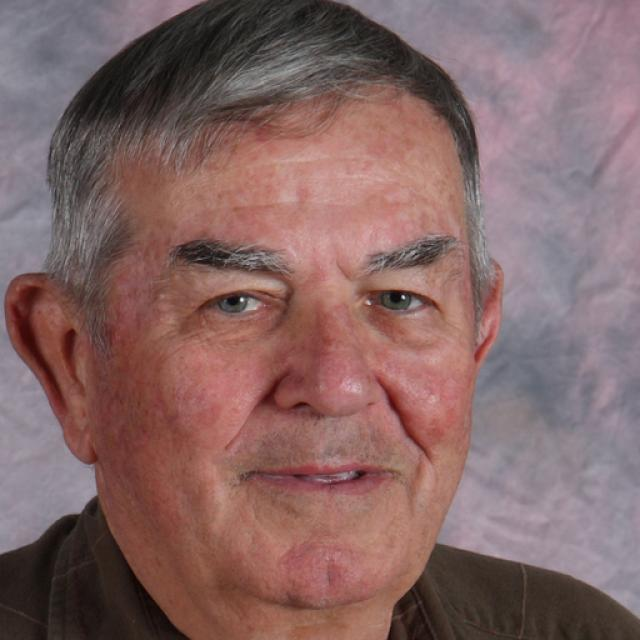Pigmentation: (101, 308, 294, 450), (382, 359, 472, 451), (285, 302, 374, 390)
